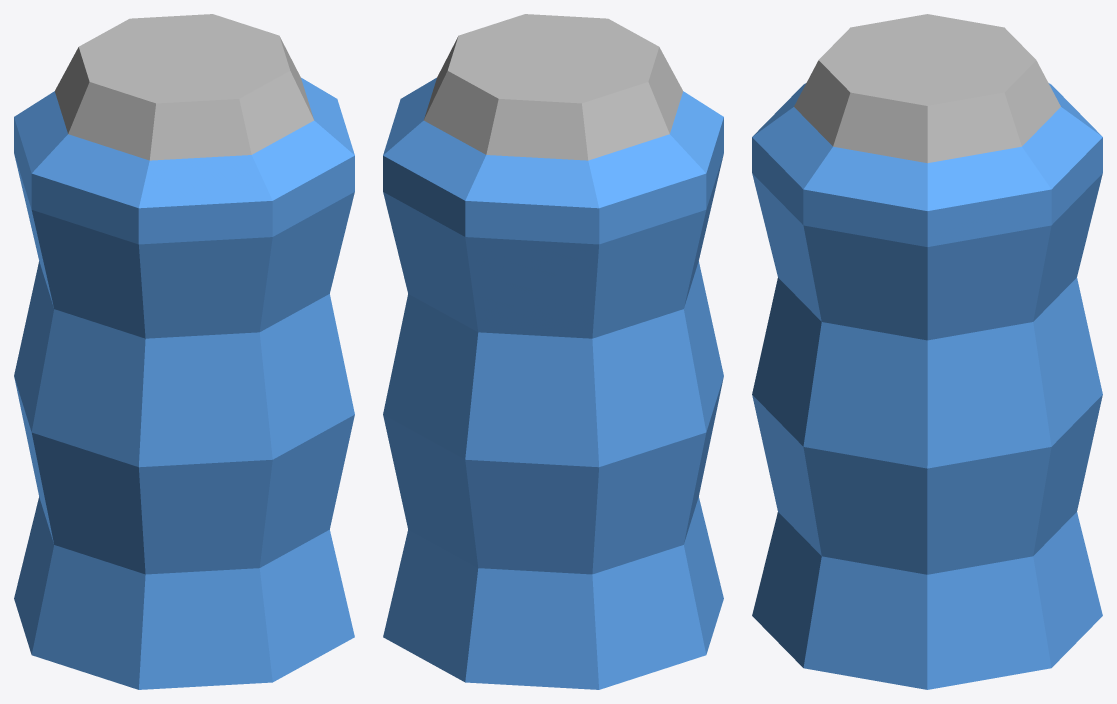
Rendered from Water.fbx.
The picture shows the model from 3 angles, left to right: view 1: azimuth 30°, elevation 25°; view 2: azimuth 150°, elevation 25°; view 3: azimuth 270°, elevation 25°; orthographic projection.
Visible parts, largest first — view 1: Water; view 2: Water; view 3: Water.
Part boxes in pixels (bbox=[...]): Water: bbox=[14, 14, 354, 689]; Water: bbox=[383, 14, 723, 689]; Water: bbox=[752, 14, 1102, 689].
Size of the model in its own units: 7.23 by 12.63 by 7.23.
